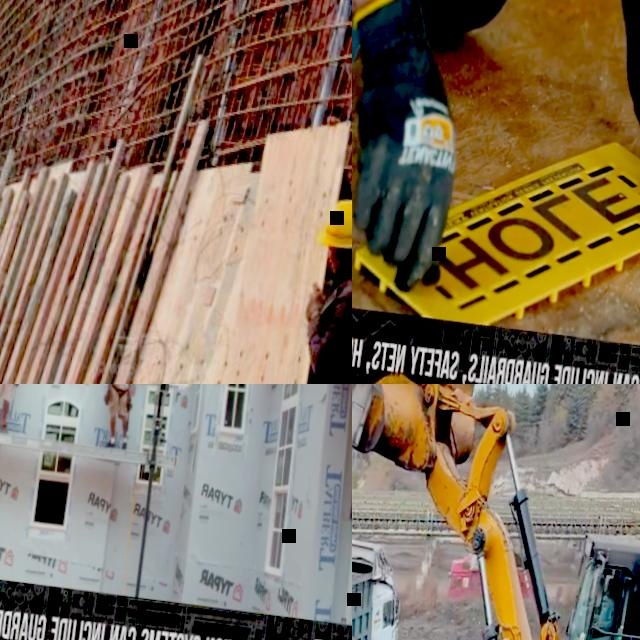Hardhat: (320, 192, 352, 252)
NO-Hardhat: (607, 576, 616, 586)
NO-Mask: (329, 248, 351, 272)
NO-Safety Vest: (311, 257, 352, 384), (596, 596, 614, 630)
Person: (352, 0, 640, 331), (250, 182, 352, 384), (80, 384, 144, 448), (0, 384, 47, 435), (592, 574, 618, 632)
machinery: (352, 384, 640, 640), (446, 542, 535, 608)
